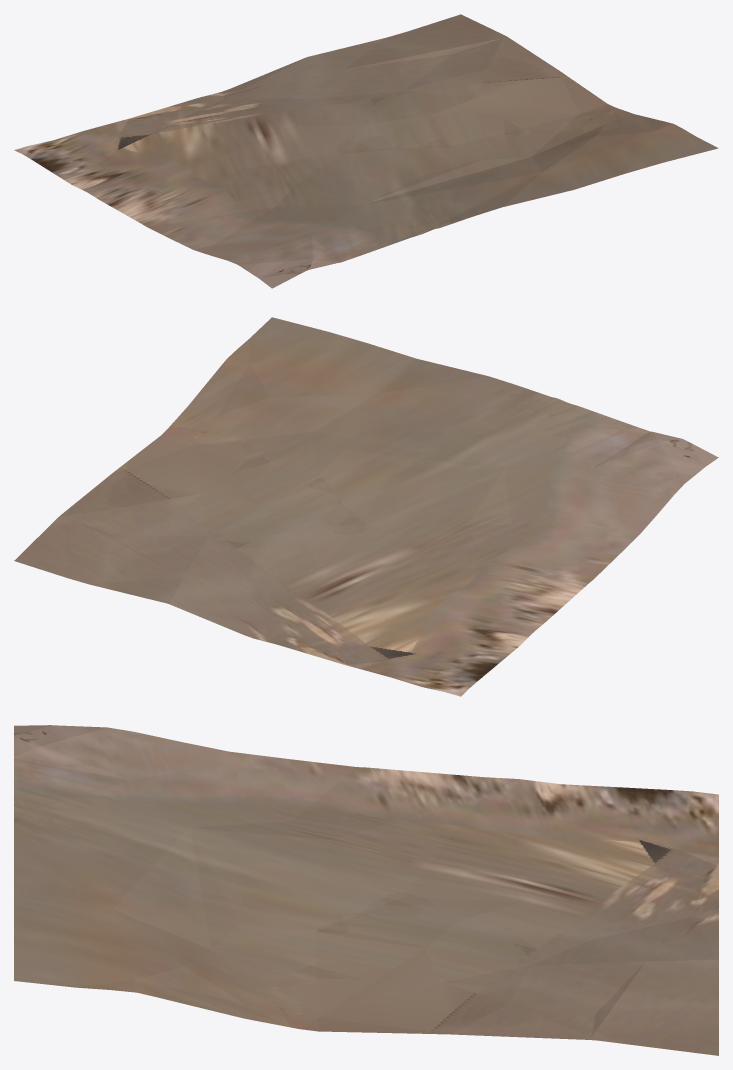
3 views of the same model, one above another, from view 1: azimuth 30°, elevation 25°; view 2: azimuth 150°, elevation 25°; view 3: azimuth 270°, elevation 25° (orthographic). The views are drawn at different scales.
Bounding box in the file's own units: 1.04 × 0.1823 × 1.04.
Materials: 3 (3 with a texture image).
